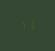seven: (19, 20, 26, 31)
three: (27, 20, 34, 30)
